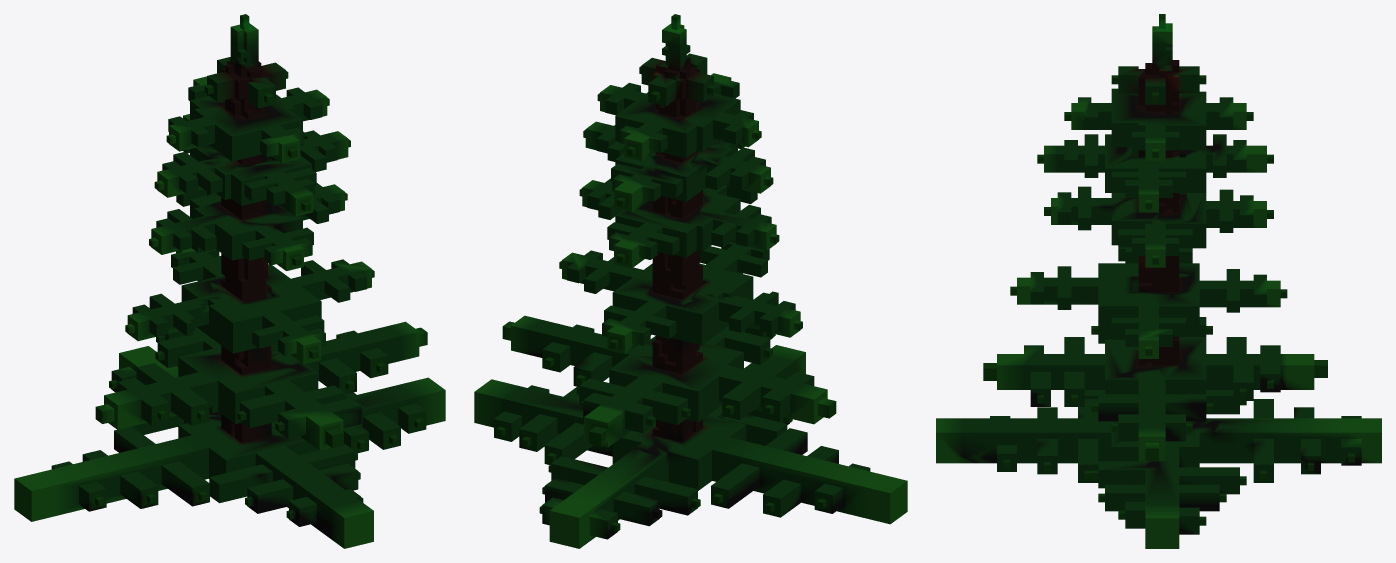
Rendered from Tree_17.fbx.
3 renders of one model, left to right at view 1: azimuth 30°, elevation 25°; view 2: azimuth 150°, elevation 25°; view 3: azimuth 270°, elevation 25°, orthographic.
Parts seen in each view (by area): view 1: Tree_17; view 2: Tree_17; view 3: Tree_17.
Part boxes in pixels (x1,y1,x2,y2): Tree_17: [14, 14, 445, 548]; Tree_17: [474, 14, 907, 548]; Tree_17: [936, 14, 1381, 548].
Size of the model in its own units: 707 by 737 by 666.
